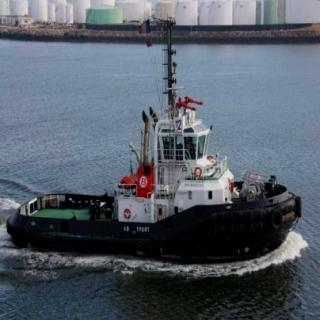Tug Boat: (0, 93, 311, 258)
